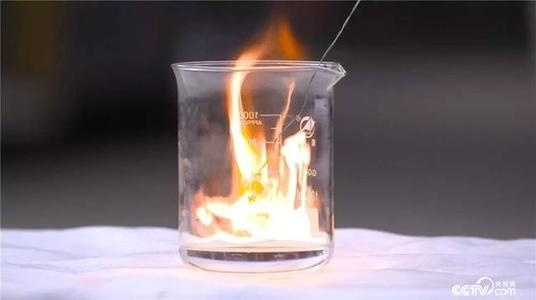fire: (193, 16, 321, 241)
